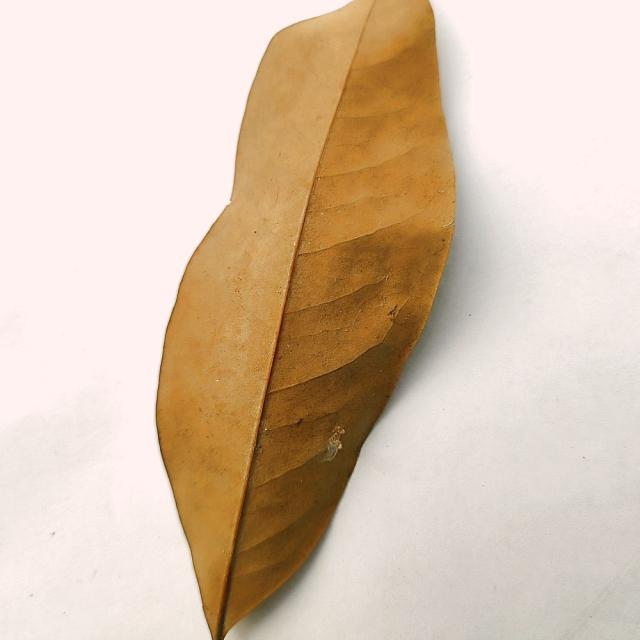Dry_Leaf-Lychee: (155, 0, 458, 639)
